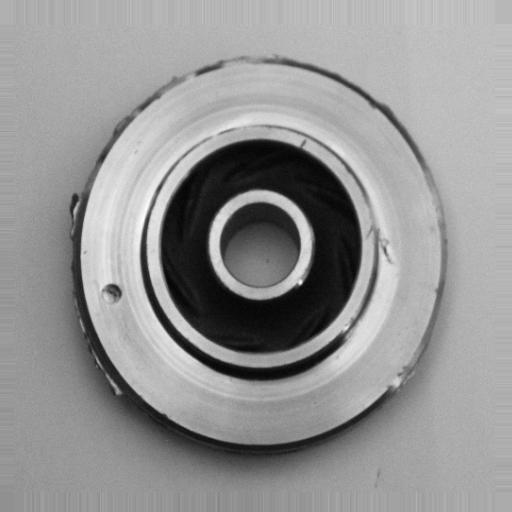casting_with_burr: (64, 54, 446, 456)
crack: (360, 215, 404, 275)
pit: (92, 275, 135, 315)
